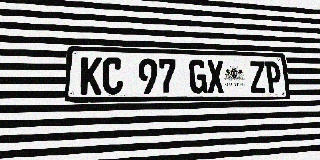7: (158, 59, 177, 94)
9: (138, 58, 158, 94)
C: (102, 57, 123, 94)
G: (189, 59, 207, 94)
K: (80, 57, 102, 95)
P: (264, 61, 282, 93)
X: (206, 60, 225, 93)
Z: (249, 61, 267, 93)
